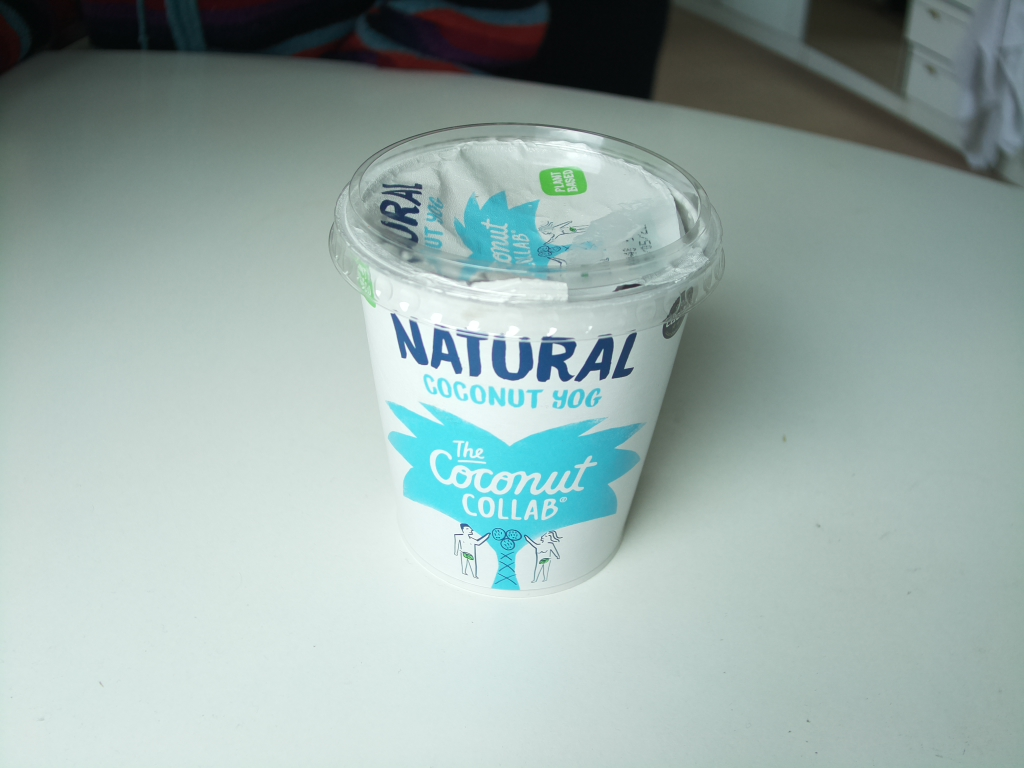yogurt: (326, 119, 722, 596)
